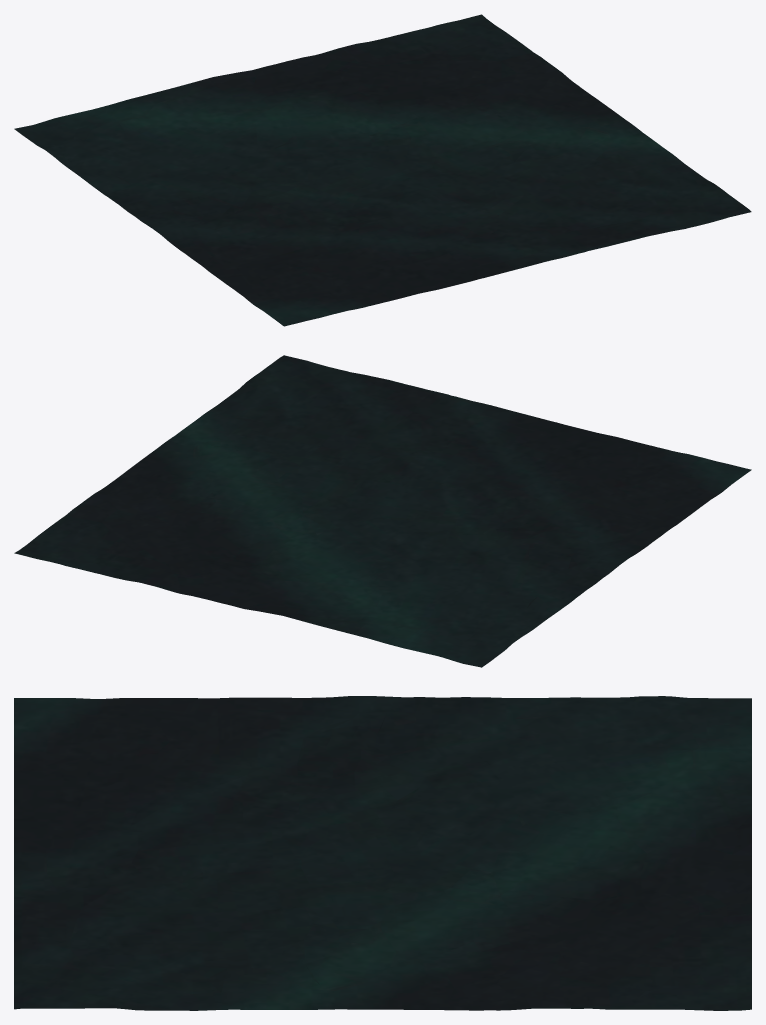
The picture shows the model from 3 angles, top to bottom: view 1: azimuth 30°, elevation 25°; view 2: azimuth 150°, elevation 25°; view 3: azimuth 270°, elevation 25°; orthographic projection. The views are drawn at different scales.
Bounding box in the file's own units: 104 × 0.948 × 104.
2 materials, 2 textured.
